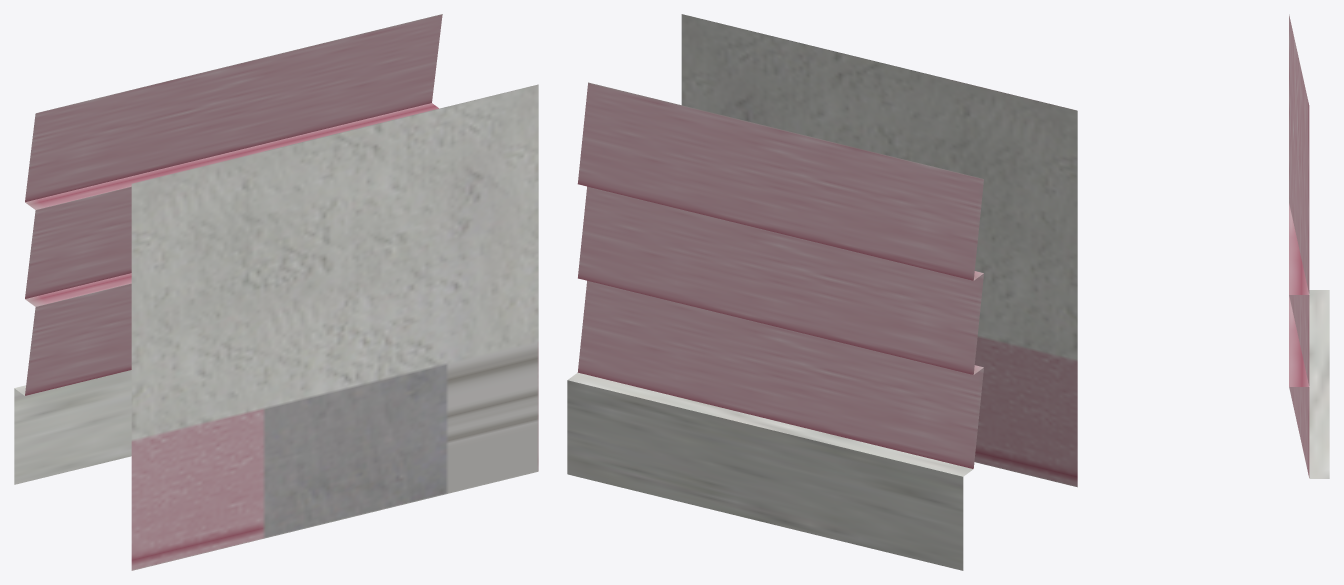
File: extWallBase_I.obj
3 renders of one model, left to right at view 1: azimuth 30°, elevation 25°; view 2: azimuth 150°, elevation 25°; view 3: azimuth 270°, elevation 25°, orthographic. The views are drawn at different scales.
Bounding box in the file's own units: 2.2 × 2 × 1.1.
